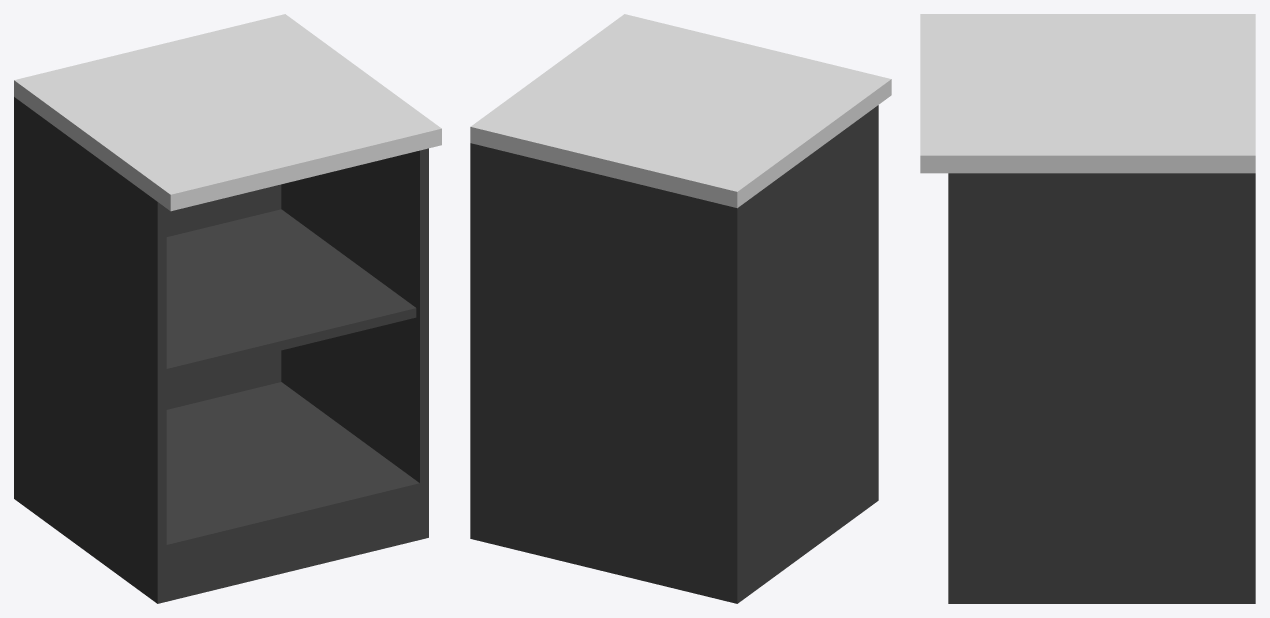
File: Kitchen1_C3_02.fbx
3 renders of one model, left to right at view 1: azimuth 30°, elevation 25°; view 2: azimuth 150°, elevation 25°; view 3: azimuth 270°, elevation 25°, orthographic. The views are drawn at different scales.
Visible parts, largest first — view 1: Kitchen1_C3_02; view 2: Kitchen1_C3_02; view 3: Kitchen1_C3_02.
Part boxes in pixels (x1,y1,x2,y2): Kitchen1_C3_02: (14,14,441,603); Kitchen1_C3_02: (470,14,891,603); Kitchen1_C3_02: (920,14,1255,603).
Bounding box in the file's own units: 60 × 88.5 × 60.
